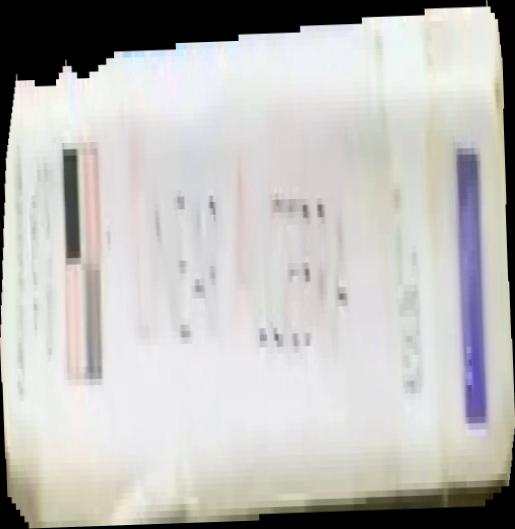flat: (1, 1, 515, 529)
